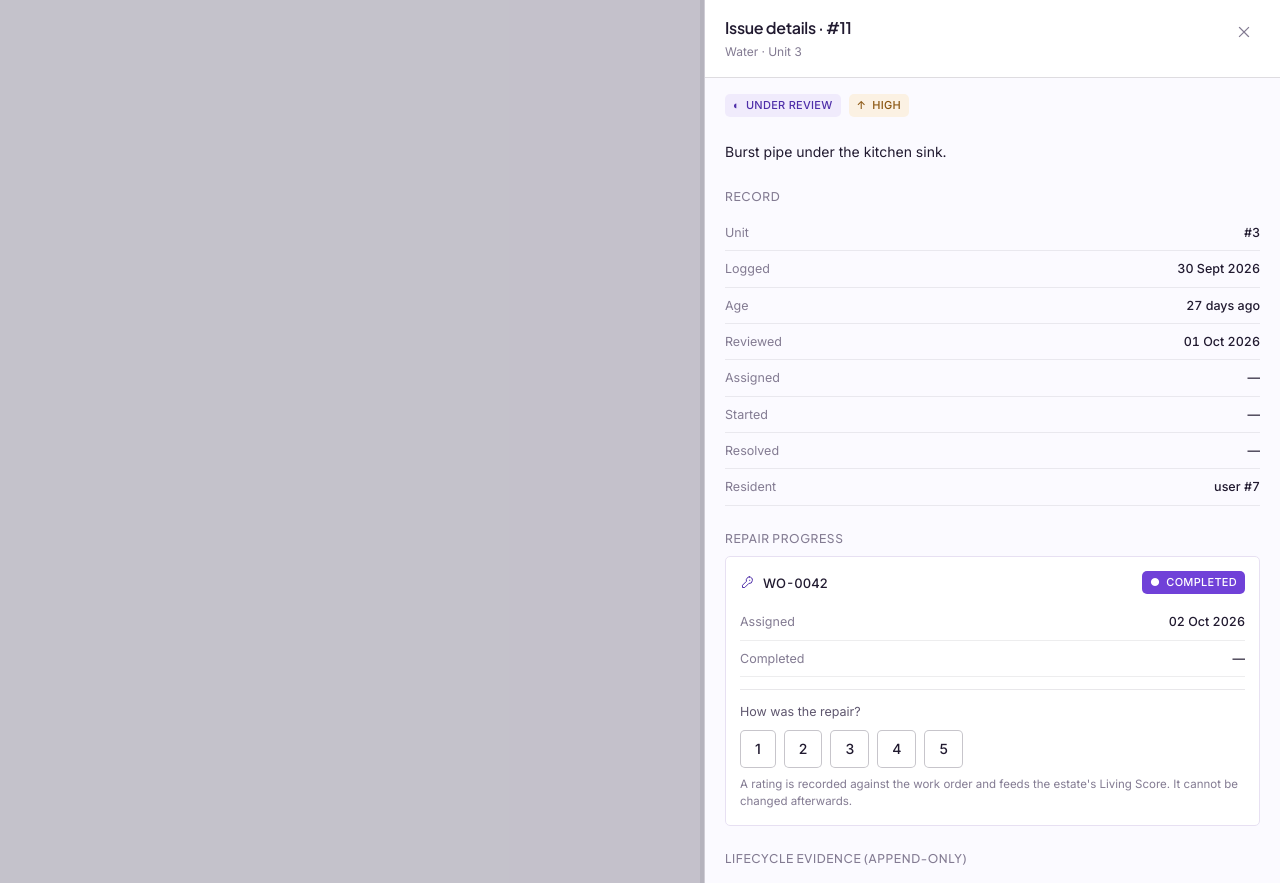
Test case: ComplaintDrawer — the resident’s repair › shows the refusal verbatim when the rating is rejected
What coordinates should you click on to do the following:
click the button named "rate the repair 5 out of 5"
I would click on:
 (944, 748)
Its box is [924,730,963,768].
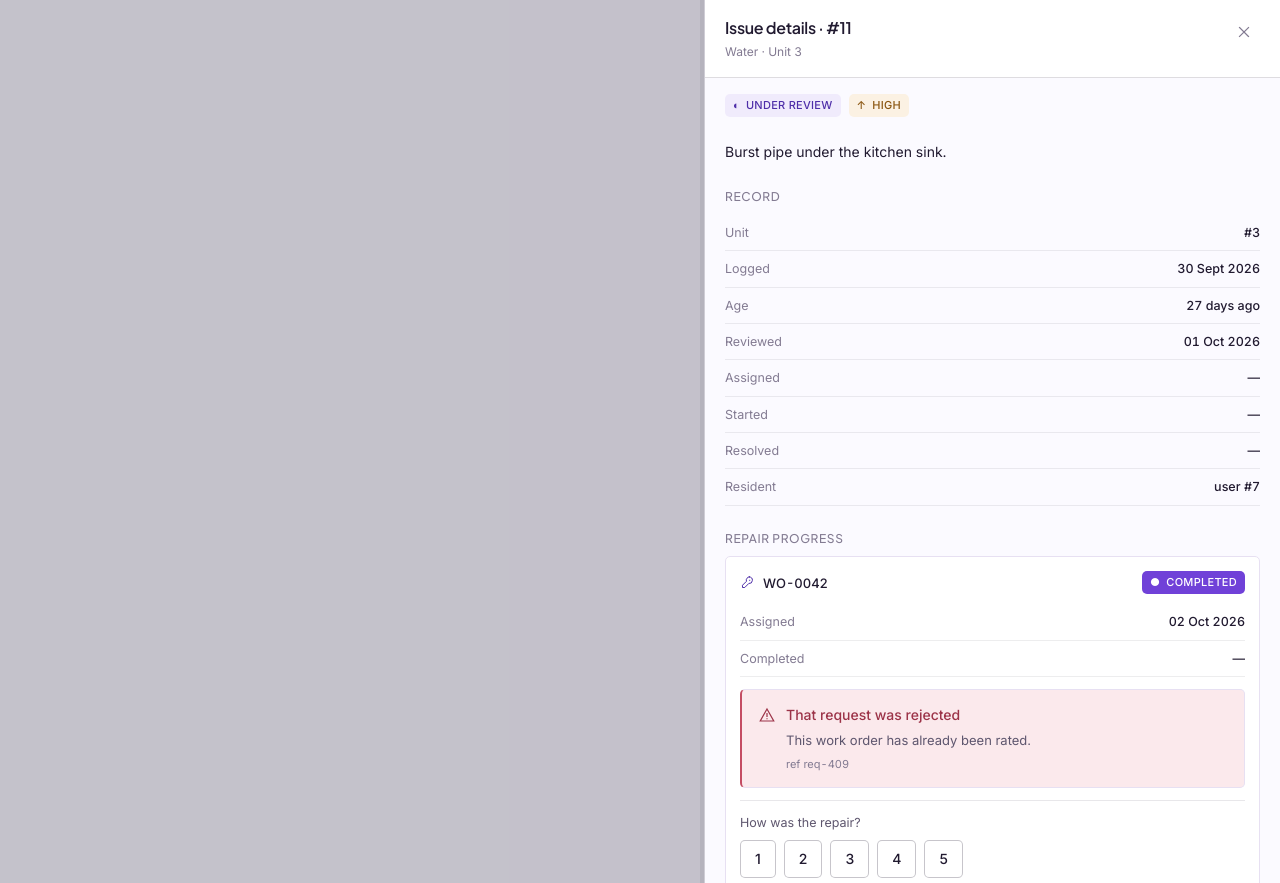
Expected: the text "This work order has already been rated." is shown, [786,730,1031,750]
Expected: the text "ref req-409" is shown, [786,757,849,771]
